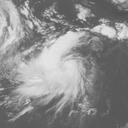cyclone: (15, 30, 91, 106)
